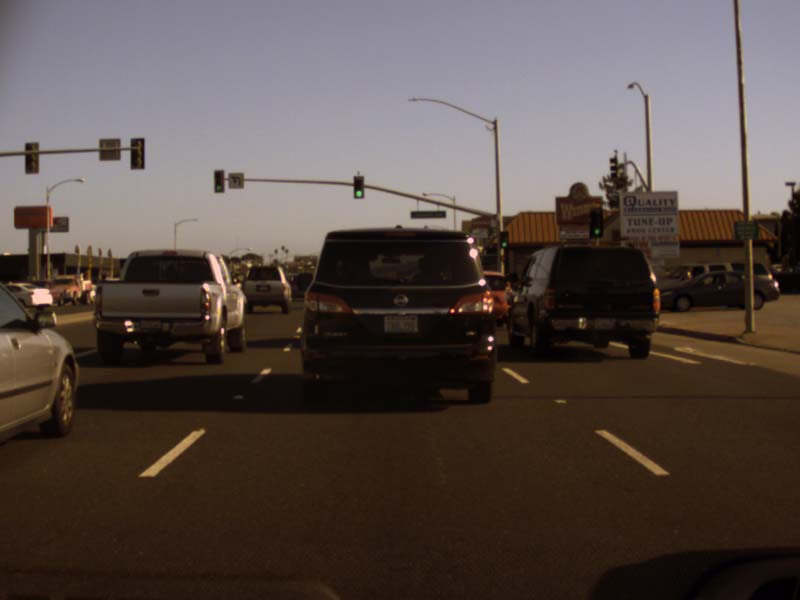Green: (589, 207, 602, 237), (353, 175, 364, 199), (213, 169, 224, 192), (499, 231, 507, 248)
